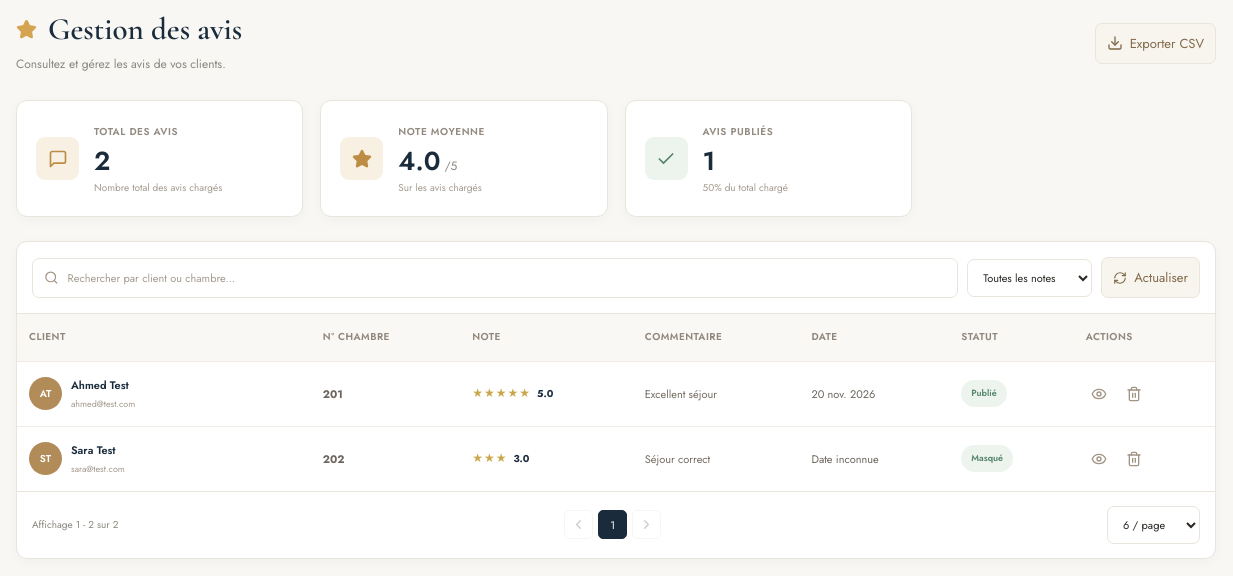
Test: AdminAvisPage › filtre les notes et revient à toutes les notes
This screenshot has width=1233, height=576.
expect the text "Ahmed Test" is shown: met, box left=71, top=376, right=135, bottom=394
Select "3 étoiles" in the dropdown named "Filtrer par note" at (1030, 278), box left=967, top=259, right=1092, bottom=297
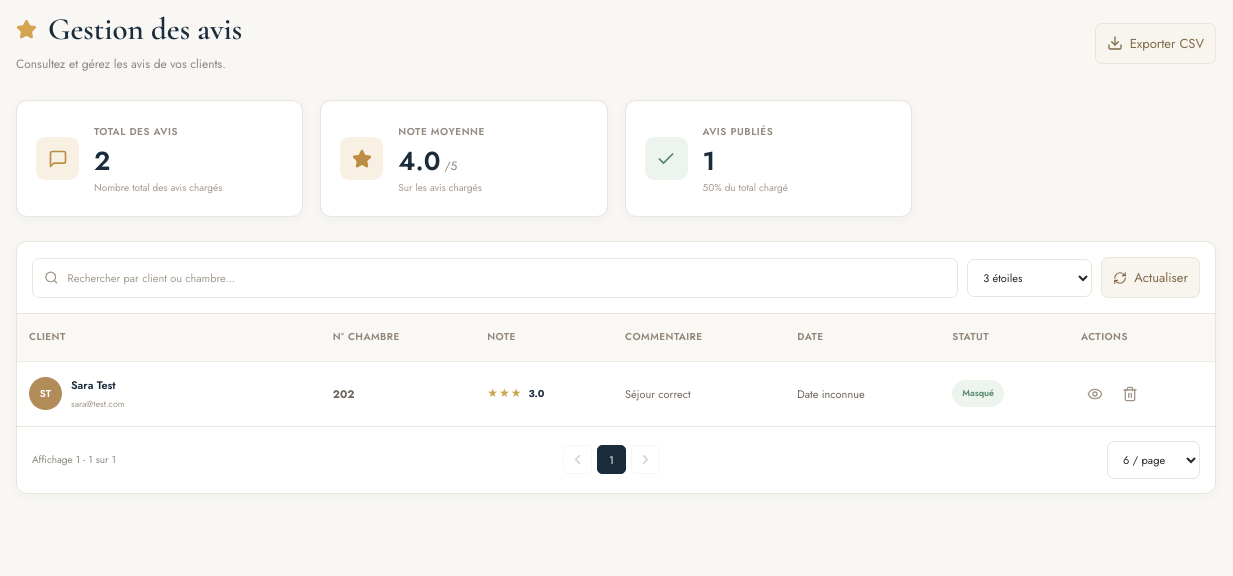
expect the text "Sara Test" is shown: met, box left=71, top=377, right=116, bottom=393
expect the text "Ahmed Test" is gone: met
Select "Toutes les notes" in the dropdown named "Filtrer par note" at (1030, 278), box left=967, top=259, right=1092, bottom=297
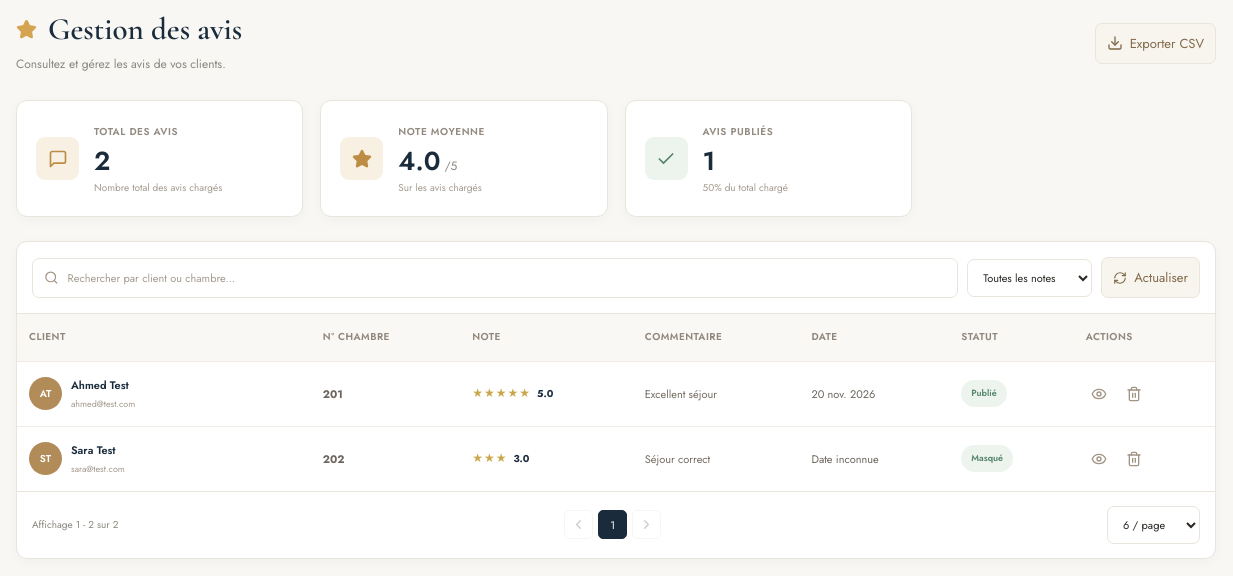
expect the text "Ahmed Test" is shown: met, box left=71, top=376, right=135, bottom=394
